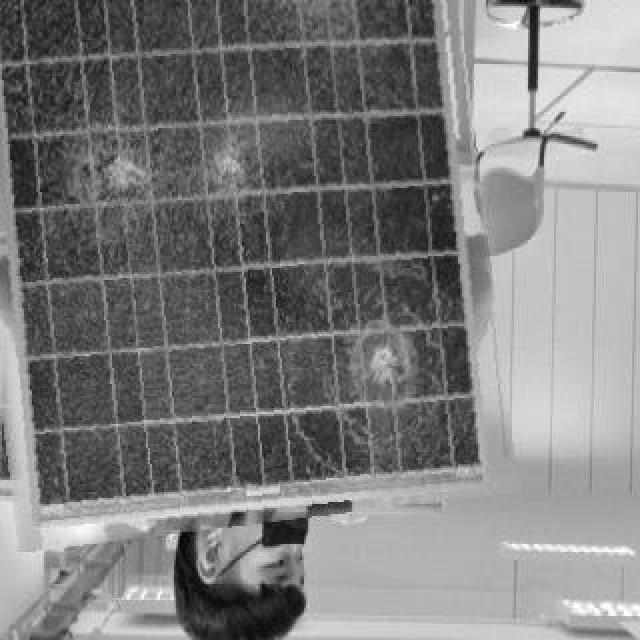Physical-damage: (310, 281, 458, 446), (75, 118, 165, 235), (188, 118, 272, 222)
